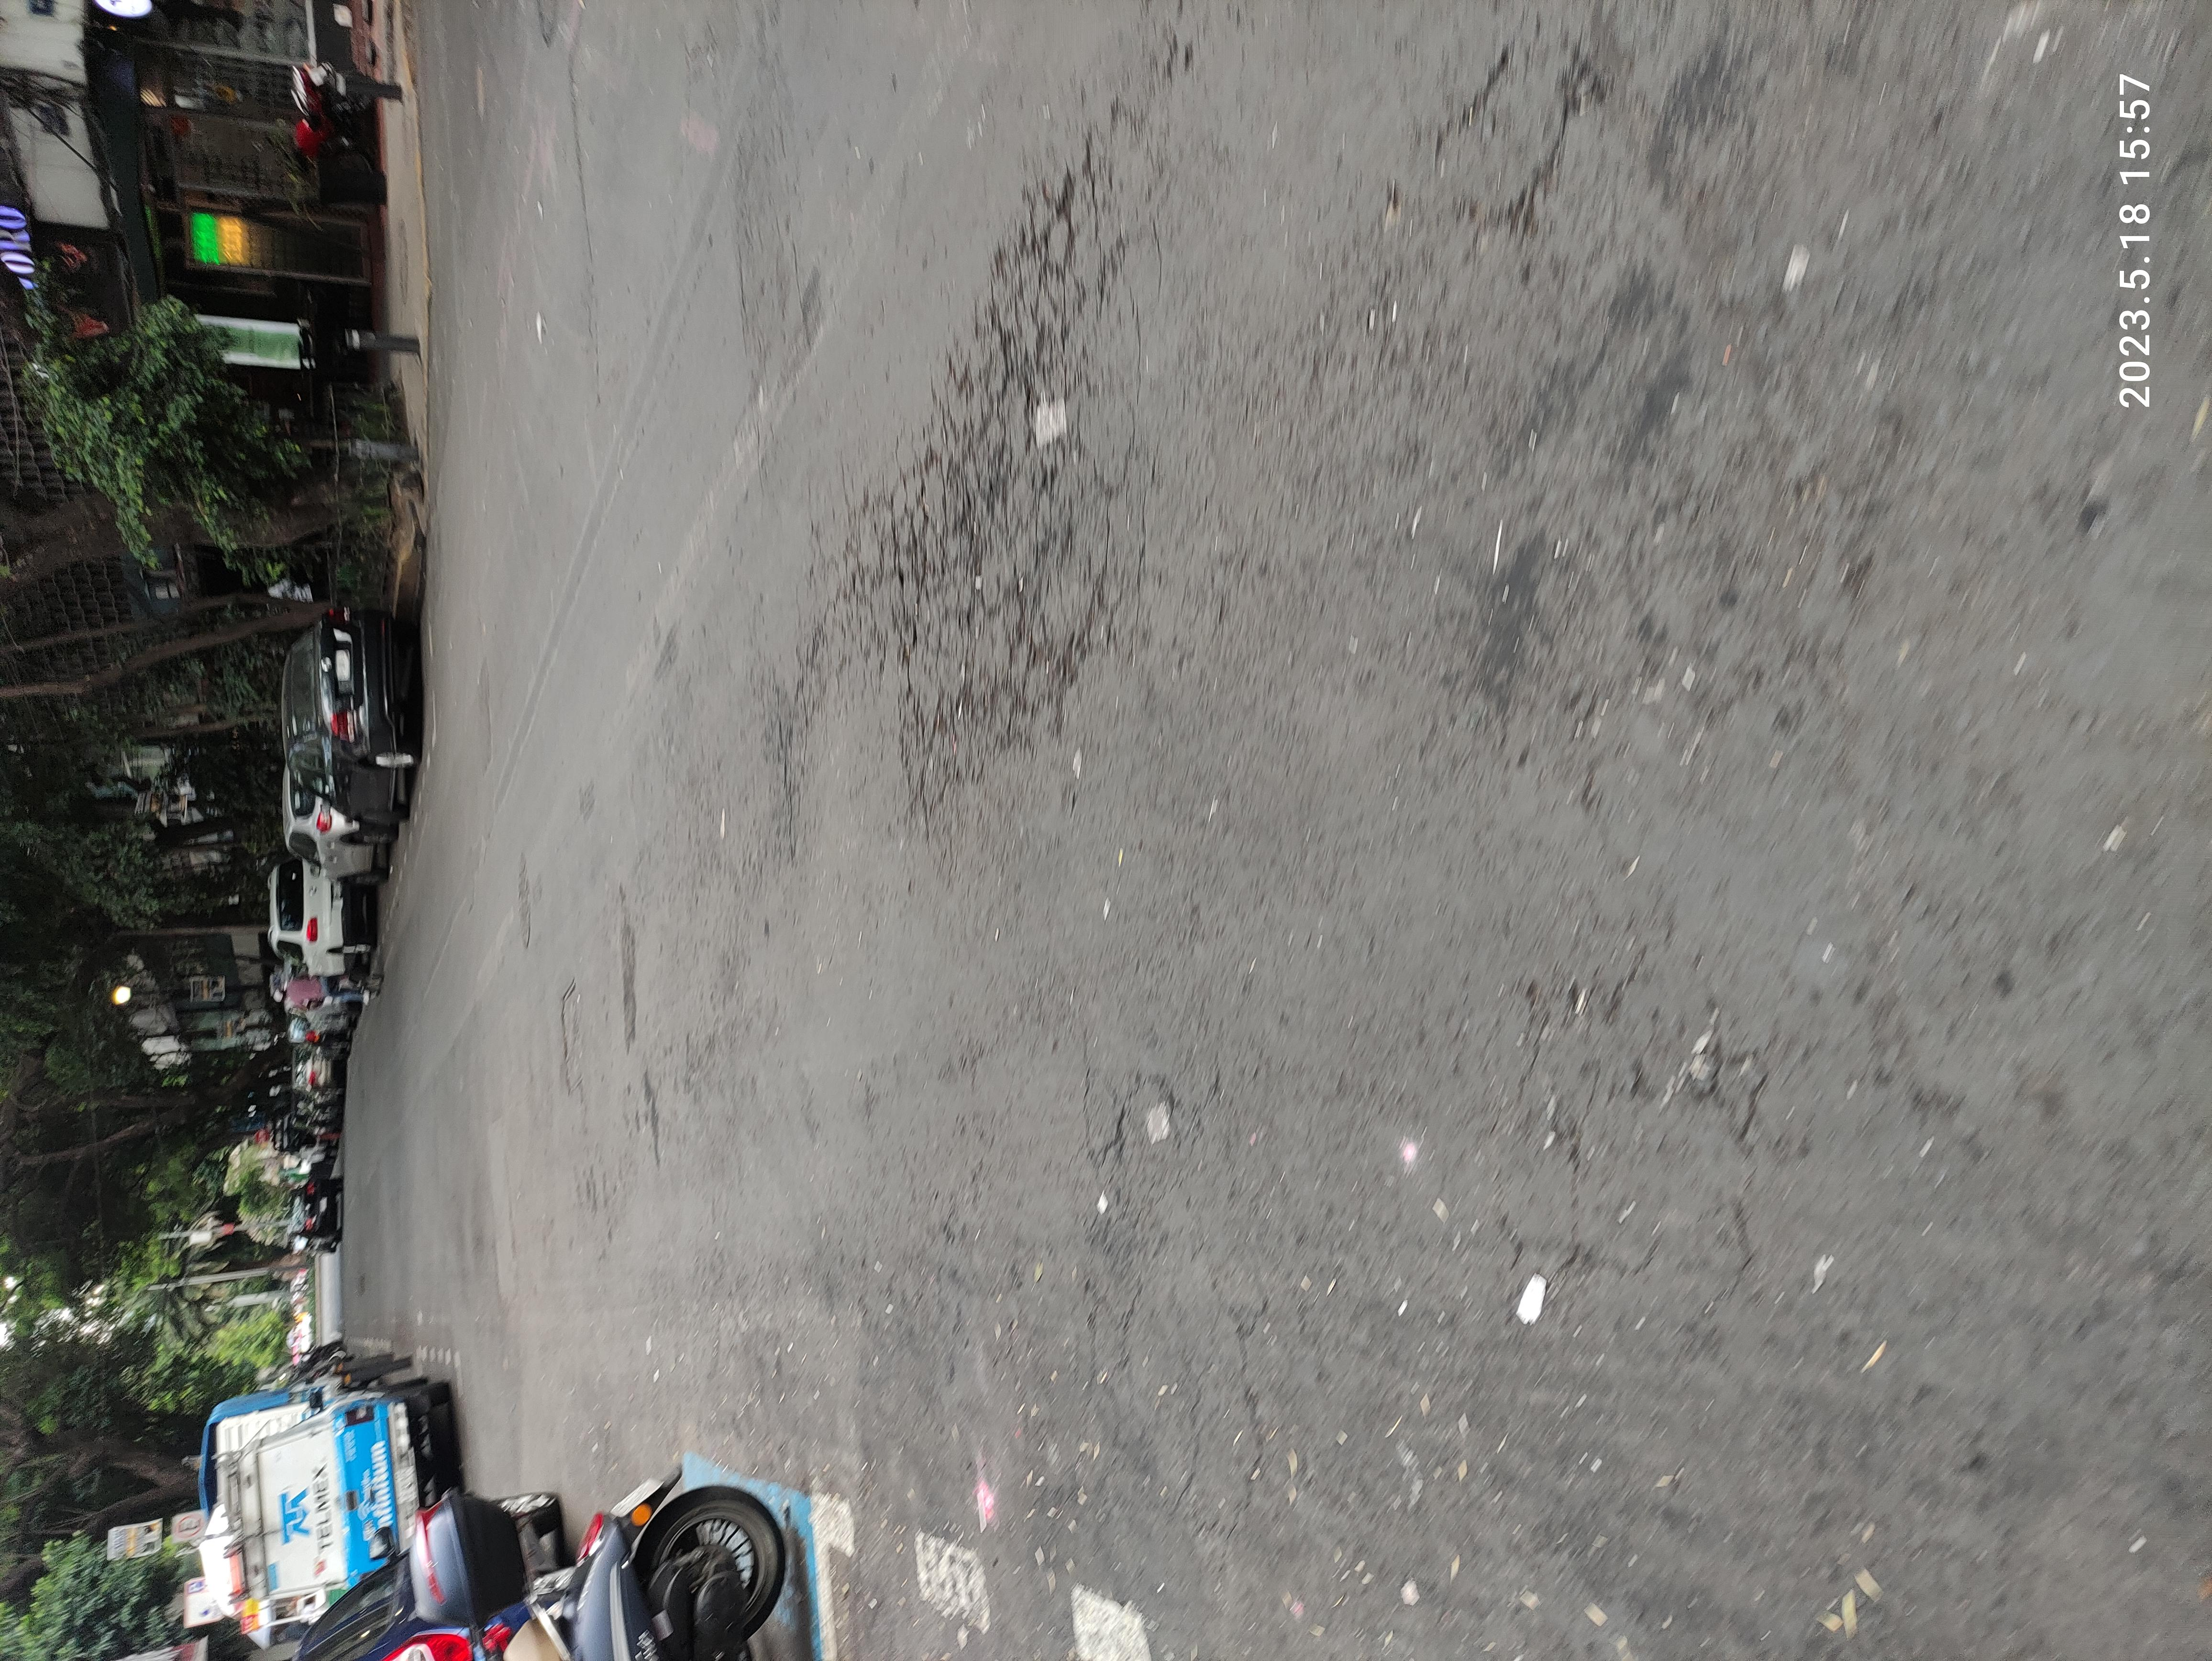alligator-crack: (1150, 600, 1985, 837)
